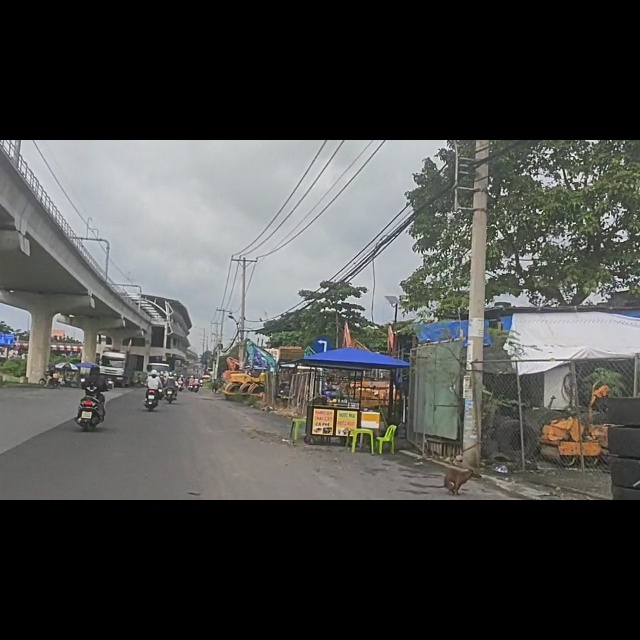bien_hieu_lenh: (311, 348, 332, 382)
